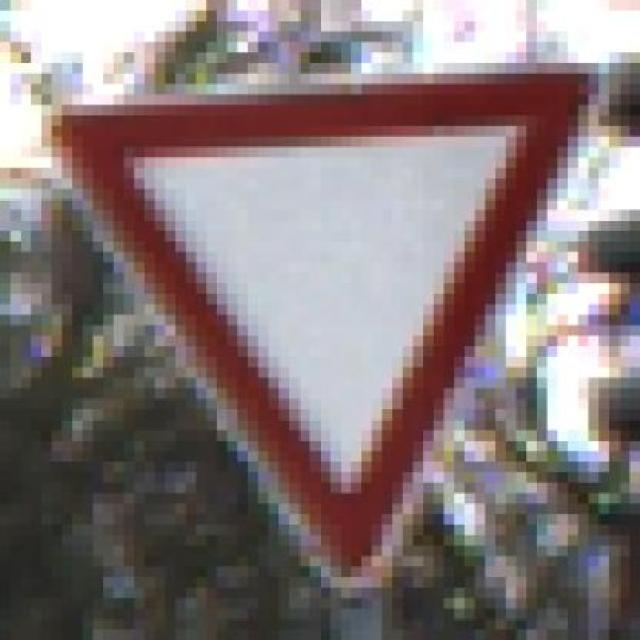Give Way: (31, 58, 629, 593)
